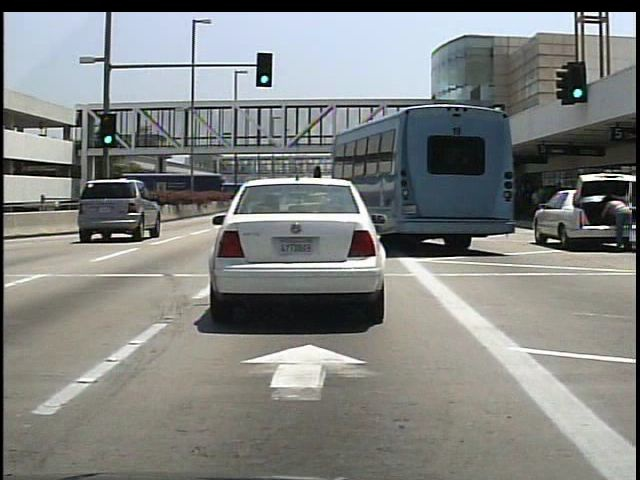person: (602, 191, 632, 254)
